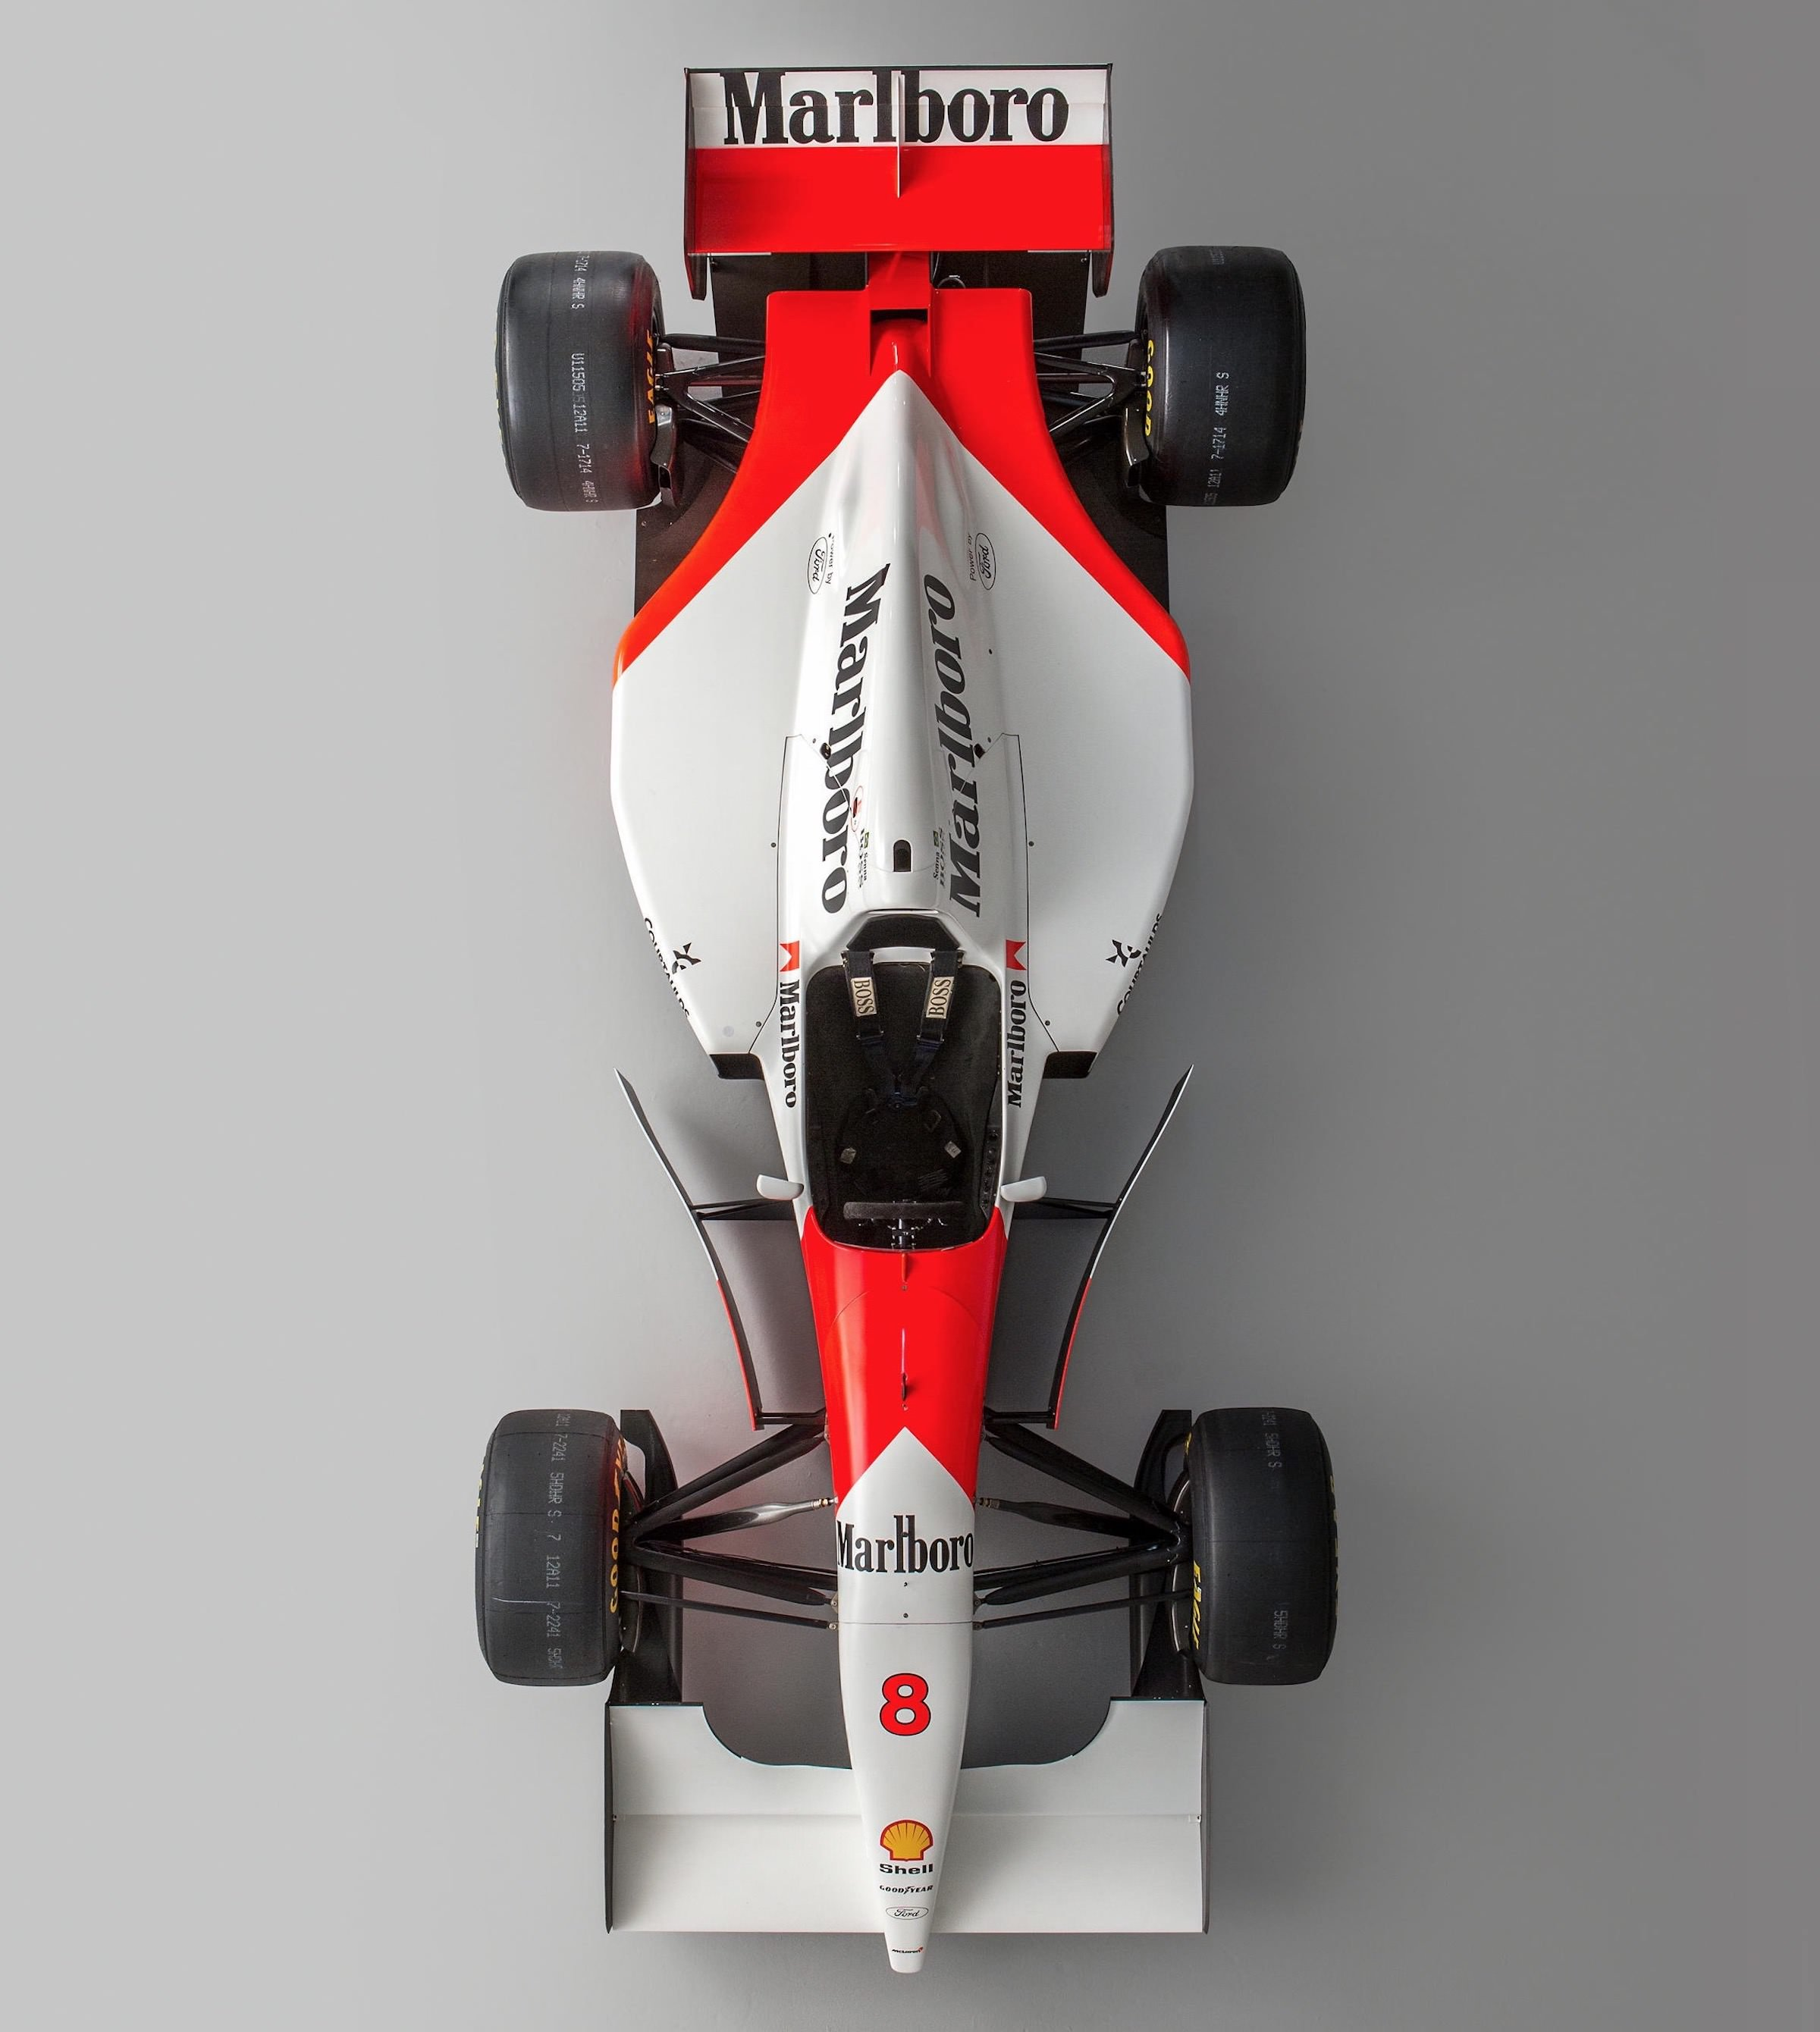f1_car: (464, 56, 1351, 1965)
